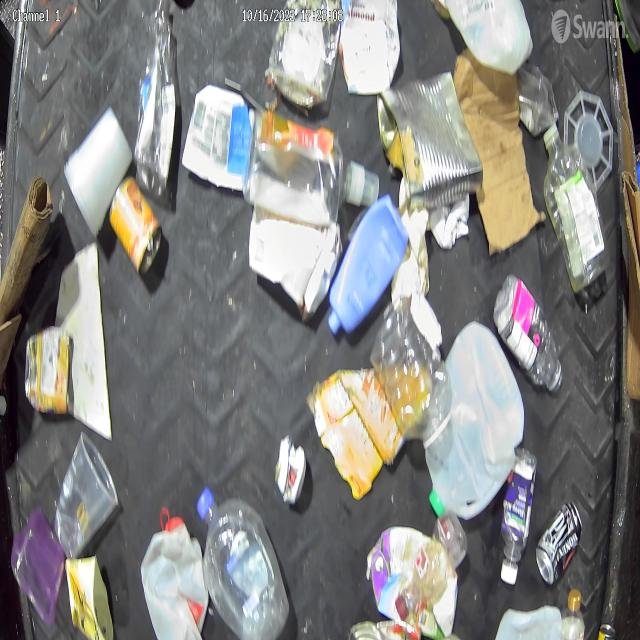can: (377, 68, 486, 209), (108, 160, 166, 278), (20, 328, 86, 418), (532, 501, 594, 595)
milk_jug: (427, 328, 526, 525), (194, 486, 294, 640), (138, 508, 220, 640), (440, 0, 534, 87)
non_white_jug: (325, 191, 408, 327)
plastic_bottle: (540, 120, 610, 302)
